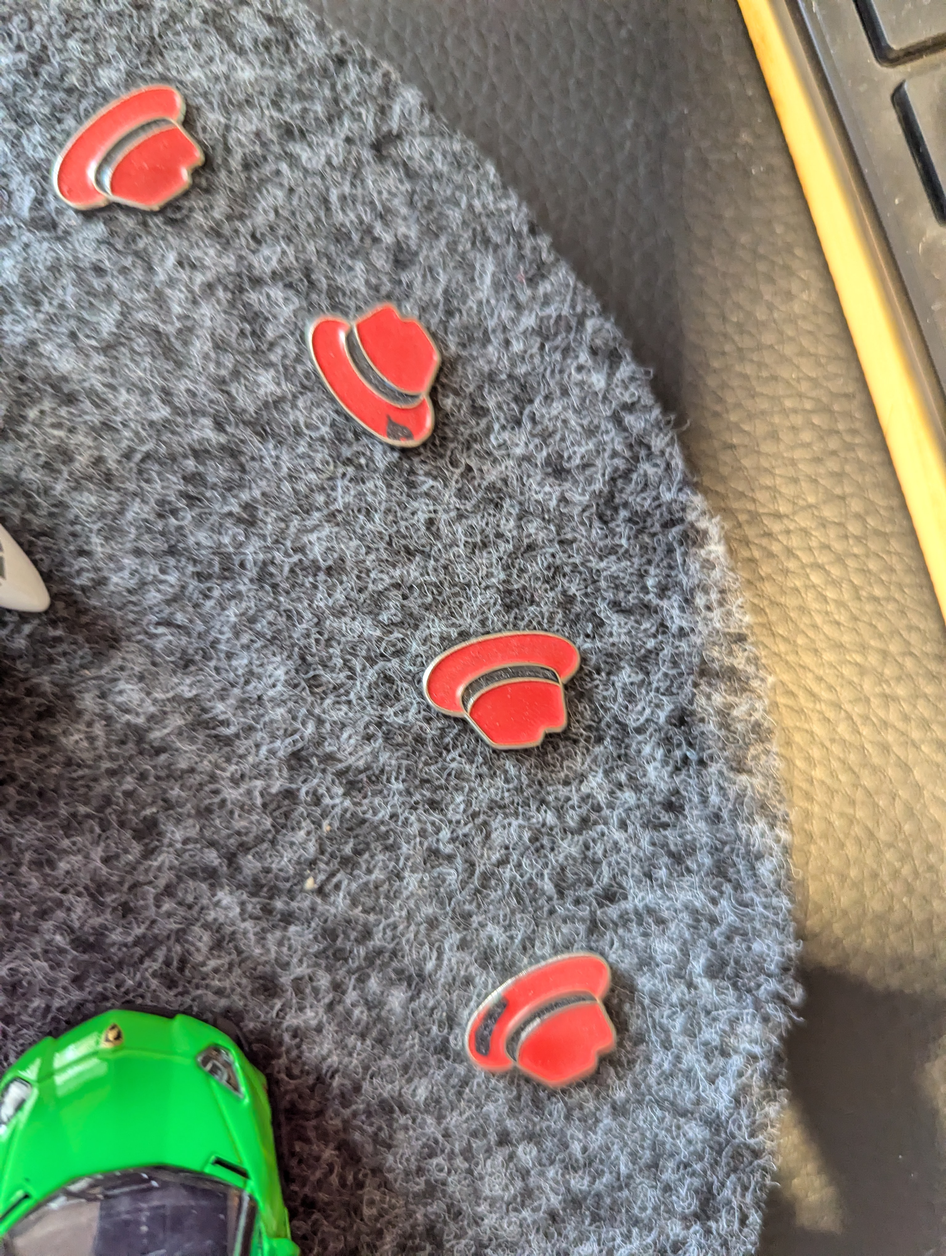Car: (0, 964, 342, 1256)
Red-Hat: (411, 935, 648, 1130), (25, 56, 221, 251), (384, 608, 609, 774), (287, 286, 473, 482)
Scratch: (458, 977, 529, 1069), (371, 401, 420, 453)
